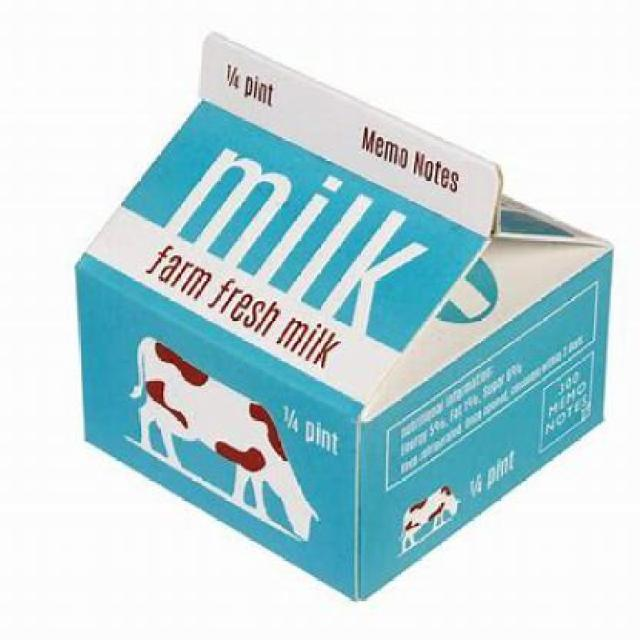drink carton: (74, 31, 614, 605)
